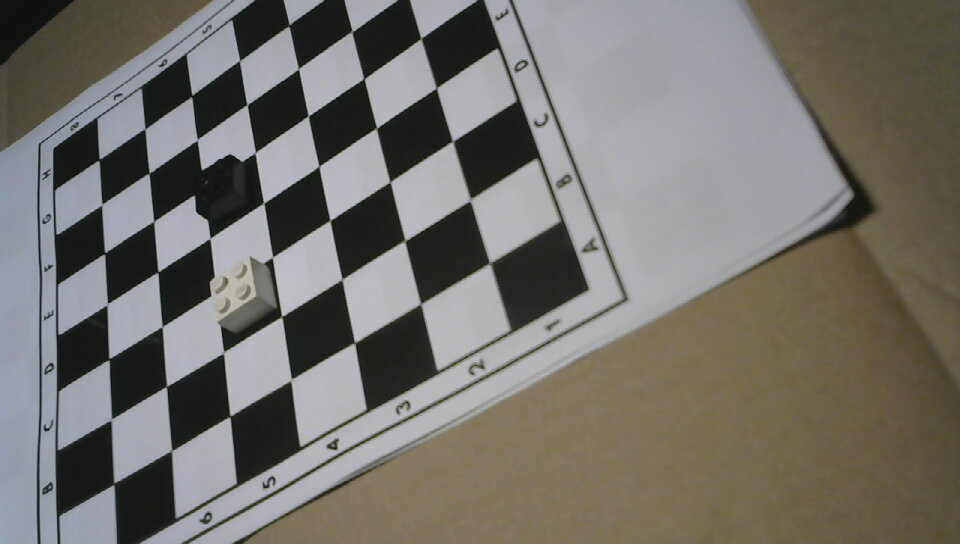bp: (188, 150, 256, 223)
